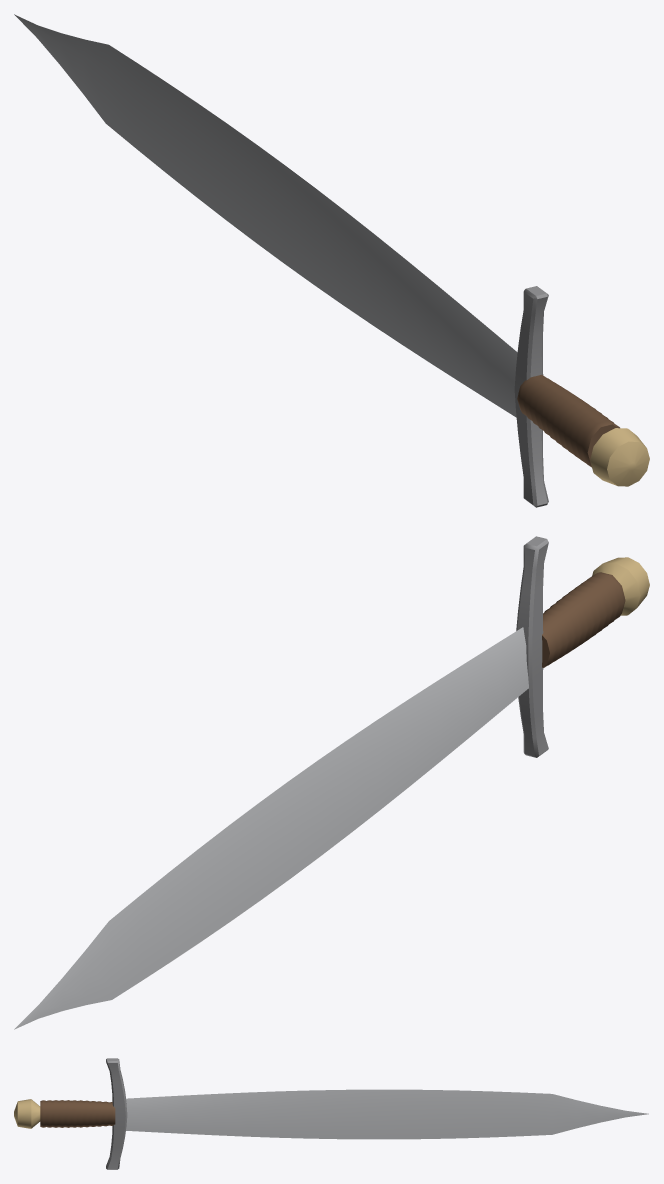
Rendered from falchion.glb.
3 renders of one model, top to bottom at view 1: azimuth 30°, elevation 25°; view 2: azimuth 150°, elevation 25°; view 3: azimuth 270°, elevation 25°, orthographic. The views are drawn at different scales.
Parts seen in each view (by area): view 1: falchion; view 2: falchion; view 3: falchion.
Boxes of the visible parts, box(x1,y1,x2,y2) form: falchion: box(14, 14, 649, 507); falchion: box(14, 536, 649, 1029); falchion: box(14, 1058, 648, 1169).
Bounding box in the file's own units: 0.04 × 0.16 × 0.847.
